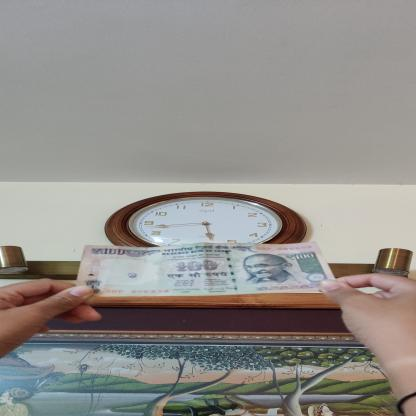Old100Front: (76, 241, 336, 297)
